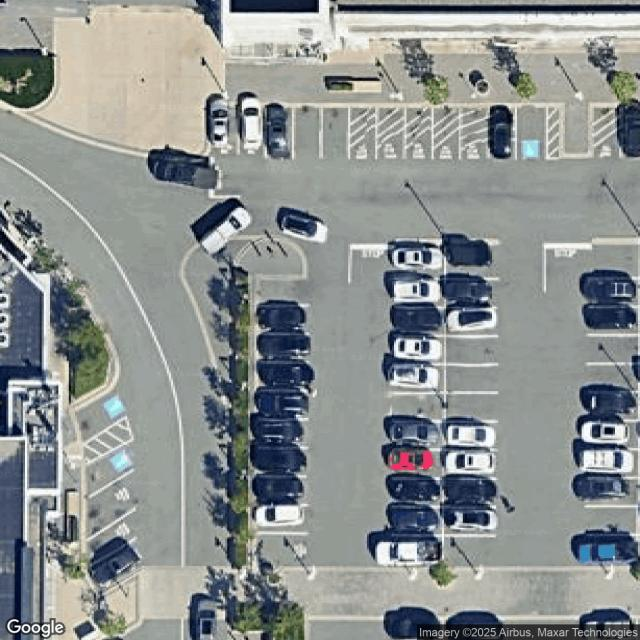car: (87, 540, 144, 591), (570, 535, 636, 567), (373, 537, 442, 565), (584, 389, 640, 418), (577, 447, 633, 475), (443, 306, 498, 333), (389, 476, 442, 504), (388, 418, 441, 446), (392, 244, 444, 272), (254, 445, 306, 473), (584, 304, 636, 332), (381, 446, 433, 474), (444, 449, 496, 477), (442, 479, 494, 507), (389, 335, 441, 363), (388, 364, 440, 392), (260, 328, 312, 356), (256, 389, 308, 417), (256, 299, 308, 327), (388, 507, 441, 534), (253, 476, 306, 503), (253, 504, 306, 531), (489, 104, 515, 159), (263, 103, 289, 158), (446, 509, 498, 536), (583, 448, 635, 475), (578, 420, 630, 447), (586, 278, 638, 305), (444, 422, 496, 449), (443, 279, 495, 306), (260, 330, 312, 357), (260, 359, 312, 386), (254, 418, 306, 445), (574, 476, 630, 501), (391, 276, 441, 304), (240, 94, 264, 152), (445, 238, 491, 268), (391, 306, 443, 332), (208, 97, 232, 153), (618, 101, 640, 155)
lot_boundary: (73, 92, 639, 639)
objects: (233, 565, 640, 621), (232, 276, 252, 565), (83, 415, 133, 465), (548, 104, 591, 159)
stall: (85, 469, 136, 541), (87, 467, 137, 539), (87, 539, 147, 598), (79, 382, 129, 446), (87, 510, 137, 568), (90, 438, 135, 496), (445, 242, 496, 278), (258, 533, 309, 567), (394, 241, 445, 274), (590, 245, 640, 277), (460, 106, 490, 159), (444, 420, 496, 450), (445, 364, 497, 394), (444, 276, 496, 306), (390, 448, 442, 478), (255, 388, 307, 418), (587, 364, 638, 394), (444, 450, 495, 480), (390, 476, 441, 506), (390, 506, 441, 536), (585, 535, 637, 564), (585, 478, 637, 507), (587, 308, 639, 337), (446, 393, 498, 422), (443, 536, 495, 565), (444, 507, 496, 536), (446, 307, 498, 336), (255, 419, 307, 448), (253, 476, 305, 505), (257, 506, 309, 535), (393, 276, 445, 305), (394, 308, 446, 337), (392, 335, 444, 364), (392, 364, 444, 393), (392, 392, 444, 421), (391, 419, 443, 448), (256, 361, 308, 390), (349, 106, 377, 159), (446, 336, 497, 365), (587, 449, 638, 478), (588, 421, 639, 450), (587, 392, 638, 421), (588, 278, 639, 307), (444, 478, 495, 507), (254, 446, 305, 475), (258, 277, 309, 306), (256, 332, 307, 361), (586, 508, 637, 536), (390, 536, 441, 564), (257, 306, 308, 334), (378, 106, 404, 159), (294, 104, 320, 157), (238, 104, 264, 157), (520, 107, 546, 159), (592, 105, 618, 157), (406, 107, 432, 159), (212, 101, 238, 153), (266, 104, 292, 156), (586, 336, 638, 362), (434, 106, 459, 159), (321, 105, 346, 158), (491, 107, 516, 159), (619, 106, 640, 158)
